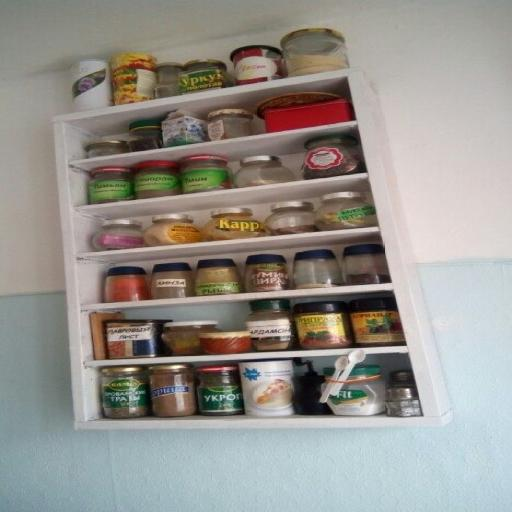road: (44, 68, 459, 435)
